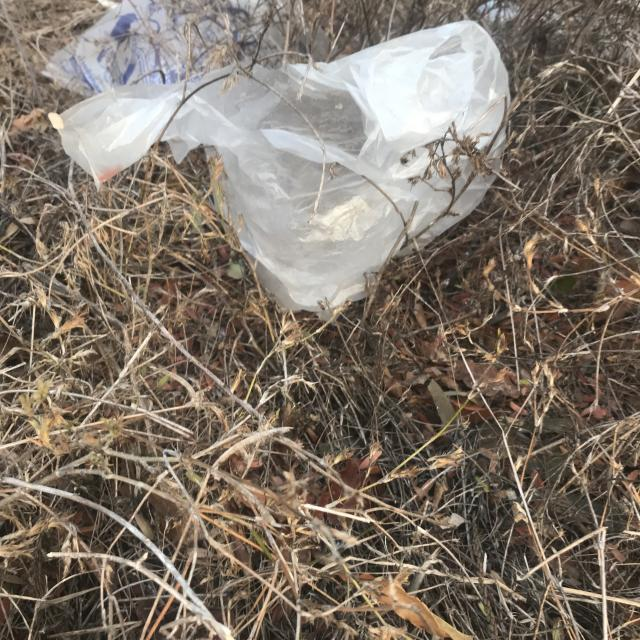Single-layer Plastic: (54, 21, 509, 311), (42, 0, 348, 96)
